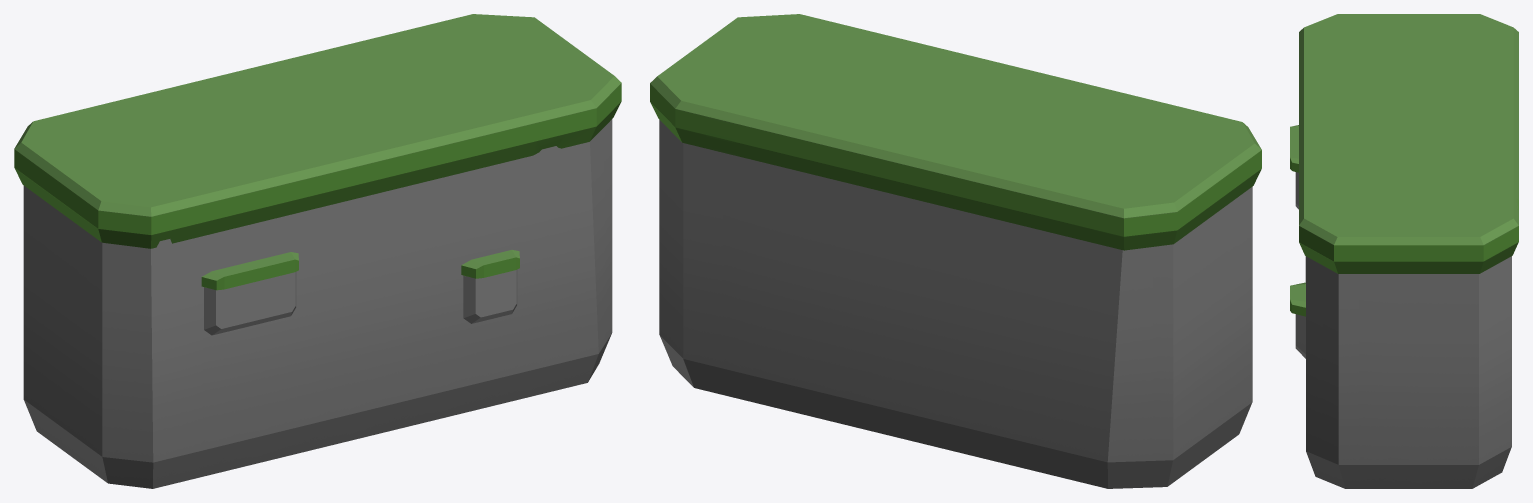
The model's file is Dino_RockCLiff_A.fbx.
The picture shows the model from 3 angles, left to right: view 1: azimuth 30°, elevation 25°; view 2: azimuth 150°, elevation 25°; view 3: azimuth 270°, elevation 25°; orthographic projection. The views are drawn at different scales.
Parts seen in each view (by area): view 1: Dino_RockCLiff_A_mesh; view 2: Dino_RockCLiff_A_mesh; view 3: Dino_RockCLiff_A_mesh.
Boxes of the visible parts, x1,y1,x2,y2 form: Dino_RockCLiff_A_mesh: (14,14,621,488); Dino_RockCLiff_A_mesh: (650,14,1261,488); Dino_RockCLiff_A_mesh: (1290,14,1518,488).
Size of the model in its own units: 84.79 by 44.62 by 36.03.
